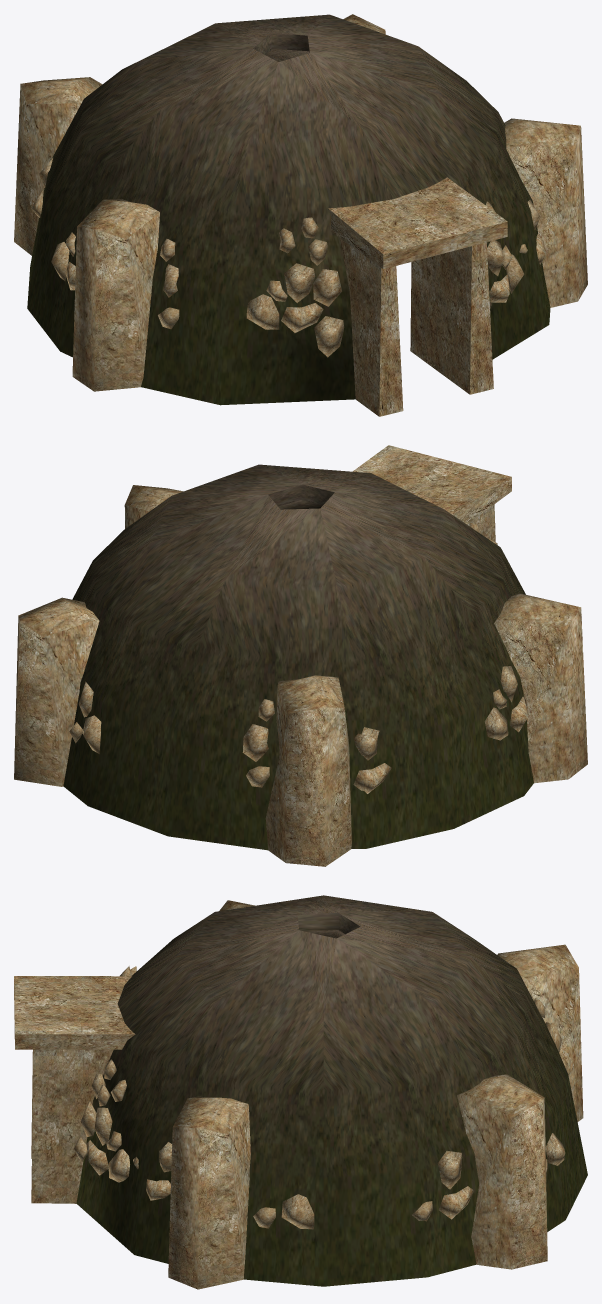
File: thm_dant_large_mudhut_l2.fbx
3 views of the same model, one above another, from view 1: azimuth 30°, elevation 25°; view 2: azimuth 150°, elevation 25°; view 3: azimuth 270°, elevation 25° (orthographic).
Visible parts, largest first — view 1: mesh_node; view 2: mesh_node; view 3: mesh_node.
Part boxes in pixels (bbox=[...]): mesh_node: bbox=[14, 14, 587, 416]; mesh_node: bbox=[14, 445, 587, 866]; mesh_node: bbox=[14, 895, 587, 1289].
Size of the model in its own units: 15.92 by 7.89 by 16.5.
